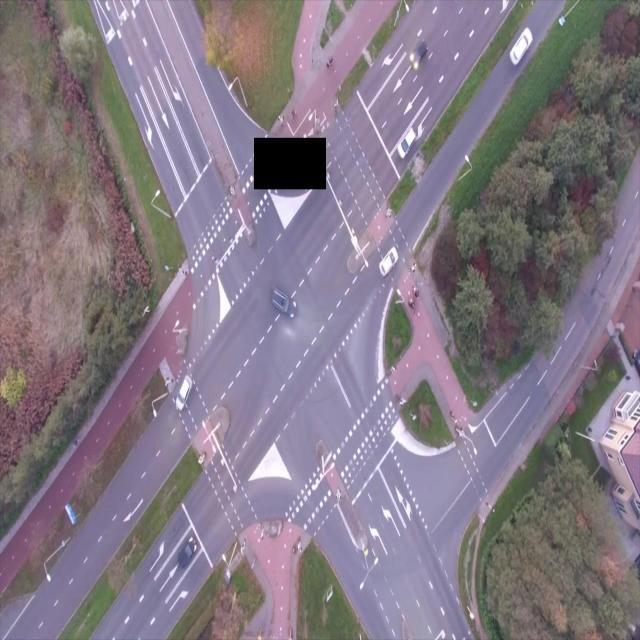car: (508, 24, 534, 67), (268, 286, 298, 319), (172, 373, 197, 410), (395, 124, 419, 160), (176, 534, 200, 567), (376, 244, 400, 276)
